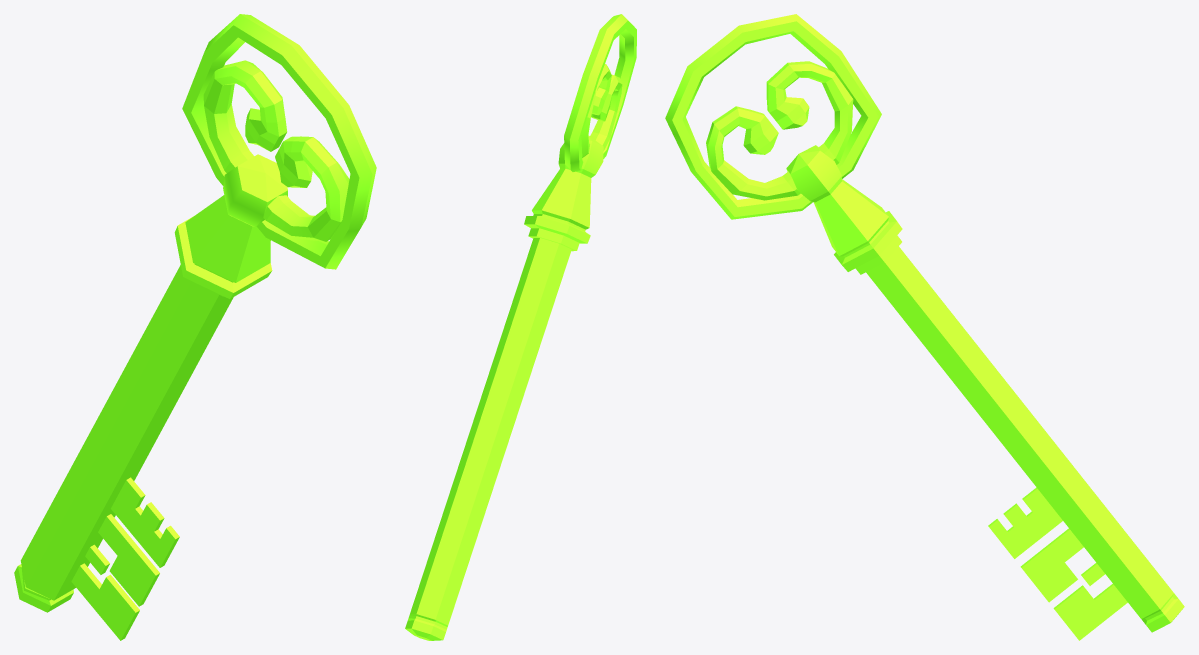
Rendered from Dream2_Unlock_Key.glb.
The picture shows the model from 3 angles, left to right: view 1: azimuth 30°, elevation 25°; view 2: azimuth 150°, elevation 25°; view 3: azimuth 270°, elevation 25°; orthographic projection. The views are drawn at different scales.
Parts seen in each view (by area): view 1: Key_Body, Key_Ring, Key_Heart, Key_Hilt, Key_HiltSphere, Key_Lock1, Key_Lock7, Key_Lock2; view 2: Key_Body, Key_Ring, Key_Hilt, Key_Heart, Key_HiltSphere; view 3: Key_Body, Key_Ring, Key_Heart, Key_Hilt, Key_Lock1, Key_Lock7, Key_Lock2, Key_HiltSphere.
Boxes of the visible parts, <box> form: Key_Body: <box>14,265,233,612</box>; Key_Ring: <box>182,14,376,269</box>; Key_Heart: <box>203,60,349,241</box>; Key_Hilt: <box>174,195,272,298</box>; Key_HiltSphere: <box>223,154,287,226</box>; Key_Lock1: <box>111,477,179,567</box>; Key_Lock7: <box>98,514,159,606</box>; Key_Lock2: <box>71,563,139,640</box>; Key_Body: <box>405,238,571,640</box>; Key_Ring: <box>564,14,636,171</box>; Key_Hilt: <box>524,168,591,251</box>; Key_Heart: <box>581,64,622,157</box>; Key_HiltSphere: <box>558,135,603,177</box>; Key_Body: <box>866,246,1184,632</box>; Key_Ring: <box>665,14,881,219</box>; Key_Heart: <box>706,61,853,200</box>; Key_Hilt: <box>813,179,902,274</box>; Key_Lock1: <box>988,487,1062,558</box>; Key_Lock7: <box>1020,528,1083,602</box>; Key_Lock2: <box>1053,584,1127,640</box>; Key_HiltSphere: <box>786,145,841,202</box>.
Bounding box in the file's own units: 0.115 × 0.9707 × 0.7591.
